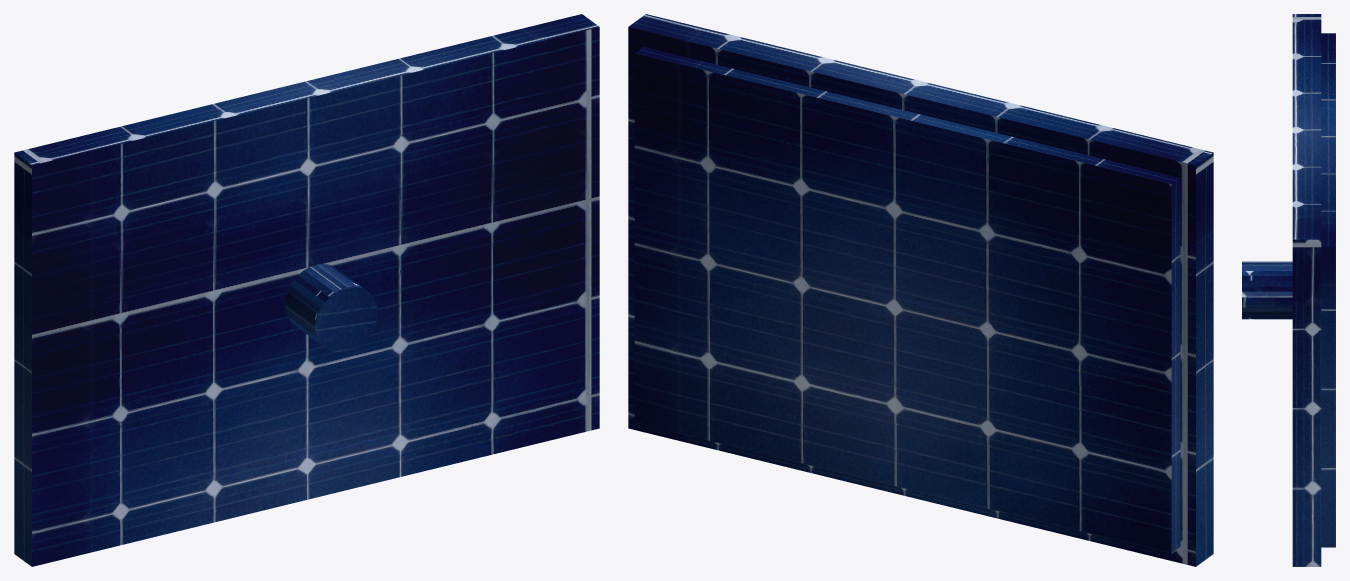
Rendered from solar_panel_2x1.glb.
3 views of the same model, side by side, from view 1: azimuth 30°, elevation 25°; view 2: azimuth 150°, elevation 25°; view 3: azimuth 270°, elevation 25° (orthographic). The views are drawn at different scales.
Visible parts, largest first — view 1: Cube; view 2: Cube; view 3: Cube.
Boxes of the visible parts, bbox=[...] form: Cube: bbox=[14, 14, 599, 566]; Cube: bbox=[628, 14, 1213, 566]; Cube: bbox=[1242, 14, 1335, 566].
Bounding box in the file's own units: 0.37 × 0.25 × 0.065.
1 material, 1 textured.
